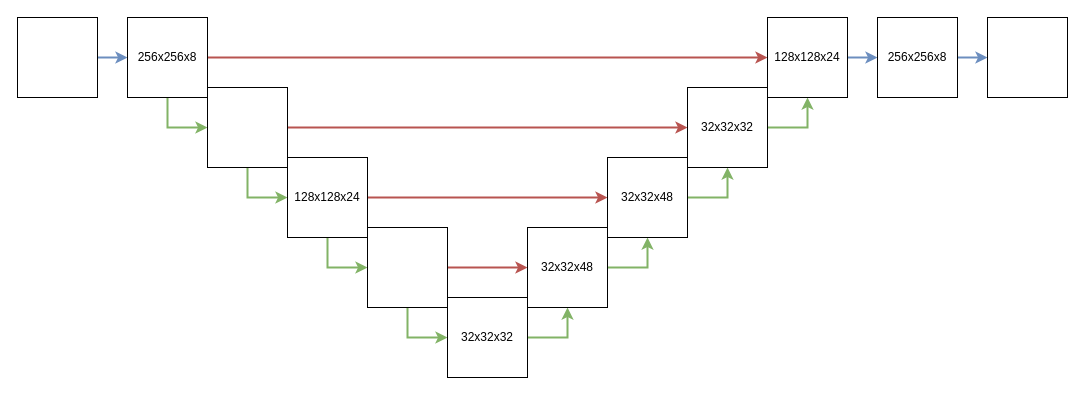
Image size: 1085x395. Some labels were removed from this diagram. The shapes that lost their labels are listed below. From the top down, each one's centre as x and y in pixels, then its label:
point (57, 57): 256x256x3
point (1027, 57): 256x256x1
point (247, 127): 128x128x16
point (407, 267): 64x64x24
